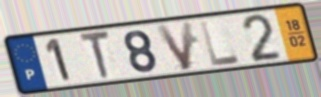1: (44, 37, 74, 84)
2: (241, 12, 284, 64)
8: (122, 29, 159, 74)
L: (197, 18, 243, 69)
T: (77, 29, 113, 82)
V: (153, 19, 195, 73)
